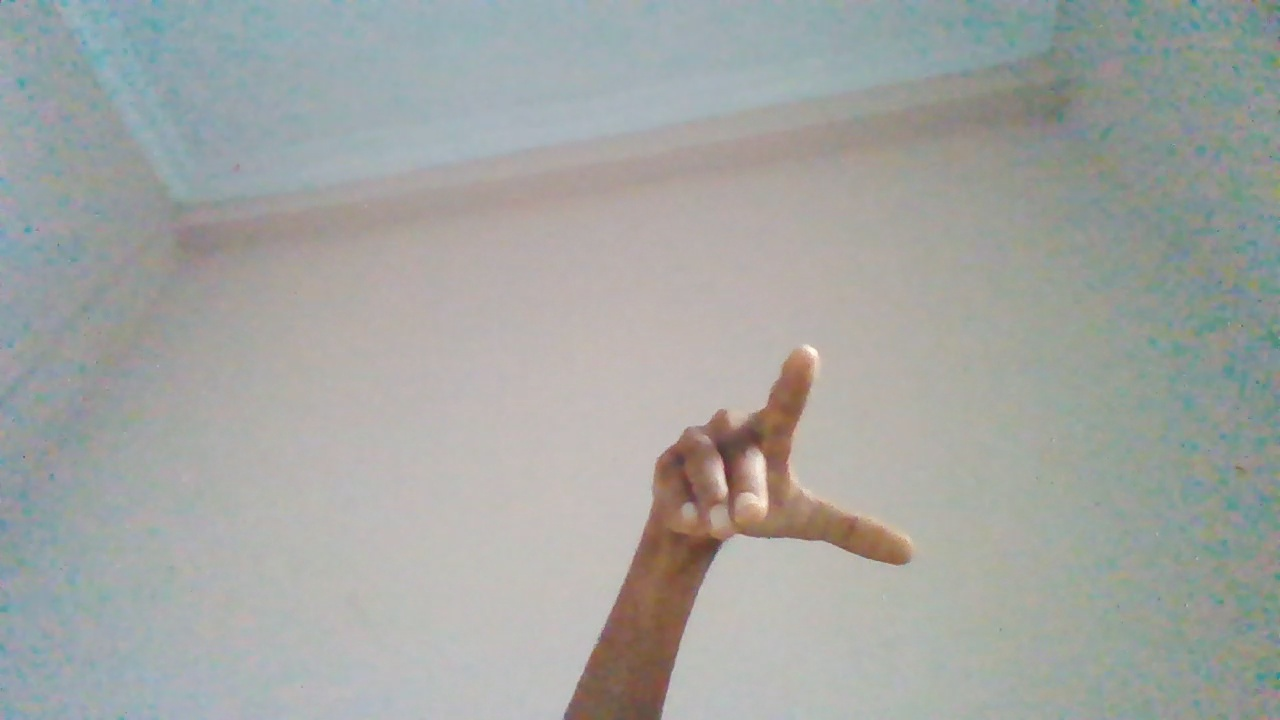ke: (621, 344, 904, 720)
